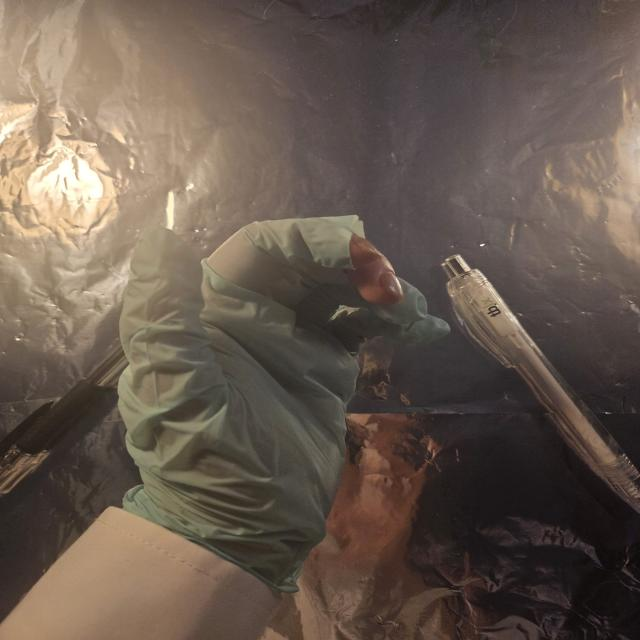gloves_damaged: (114, 213, 452, 595)
